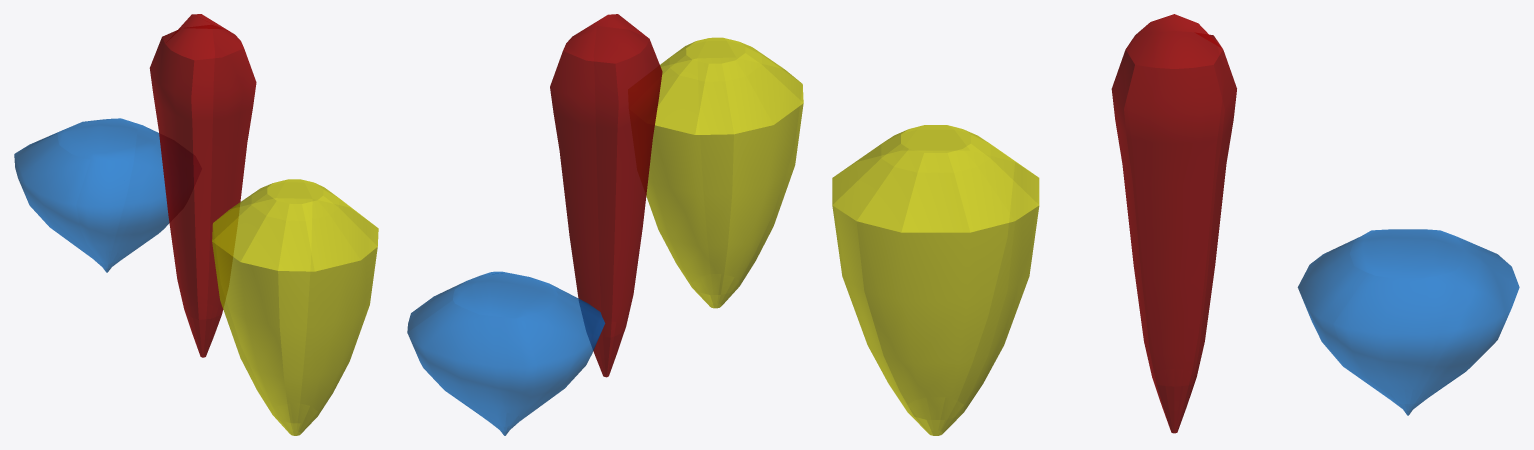
Rendered from RelicRed.fbx.
The picture shows the model from 3 angles, left to right: view 1: azimuth 30°, elevation 25°; view 2: azimuth 150°, elevation 25°; view 3: azimuth 270°, elevation 25°; orthographic projection. The views are drawn at different scales.
Visible parts, largest first — view 1: pCube3, pCube2, pCube1; view 2: pCube3, pCube2, pCube1; view 3: pCube3, pCube2, pCube1.
Boxes of the visible parts, x1,y1,x2,y2 form: pCube3: (212,179,378,435); pCube2: (149,14,256,357); pCube1: (14,118,169,272); pCube3: (646,37,803,308); pCube2: (550,14,662,377); pCube1: (407,271,605,435); pCube3: (832,125,1039,435); pCube2: (1111,14,1236,433); pCube1: (1297,229,1519,415).
Bounding box in the file's own units: 10.05 × 21.34 × 31.52.
